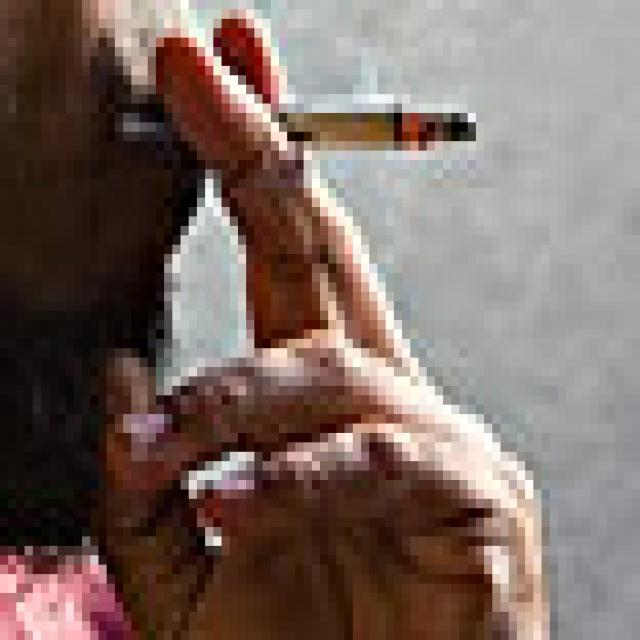smoking: (122, 101, 481, 151)
